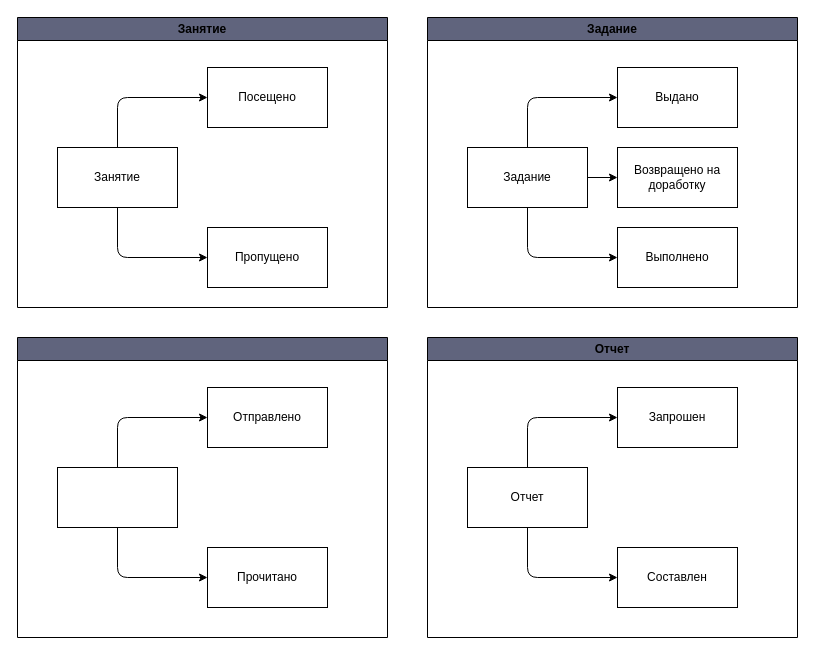
This 815x655 diagram has some shape labels left out. The shapes that lost their labels are listed below. From the top down, each one's box as (x1, y1, x2, y2) in pixels, then its label:
(56, 466, 178, 528): Сообщение
(16, 336, 388, 638): Форум
